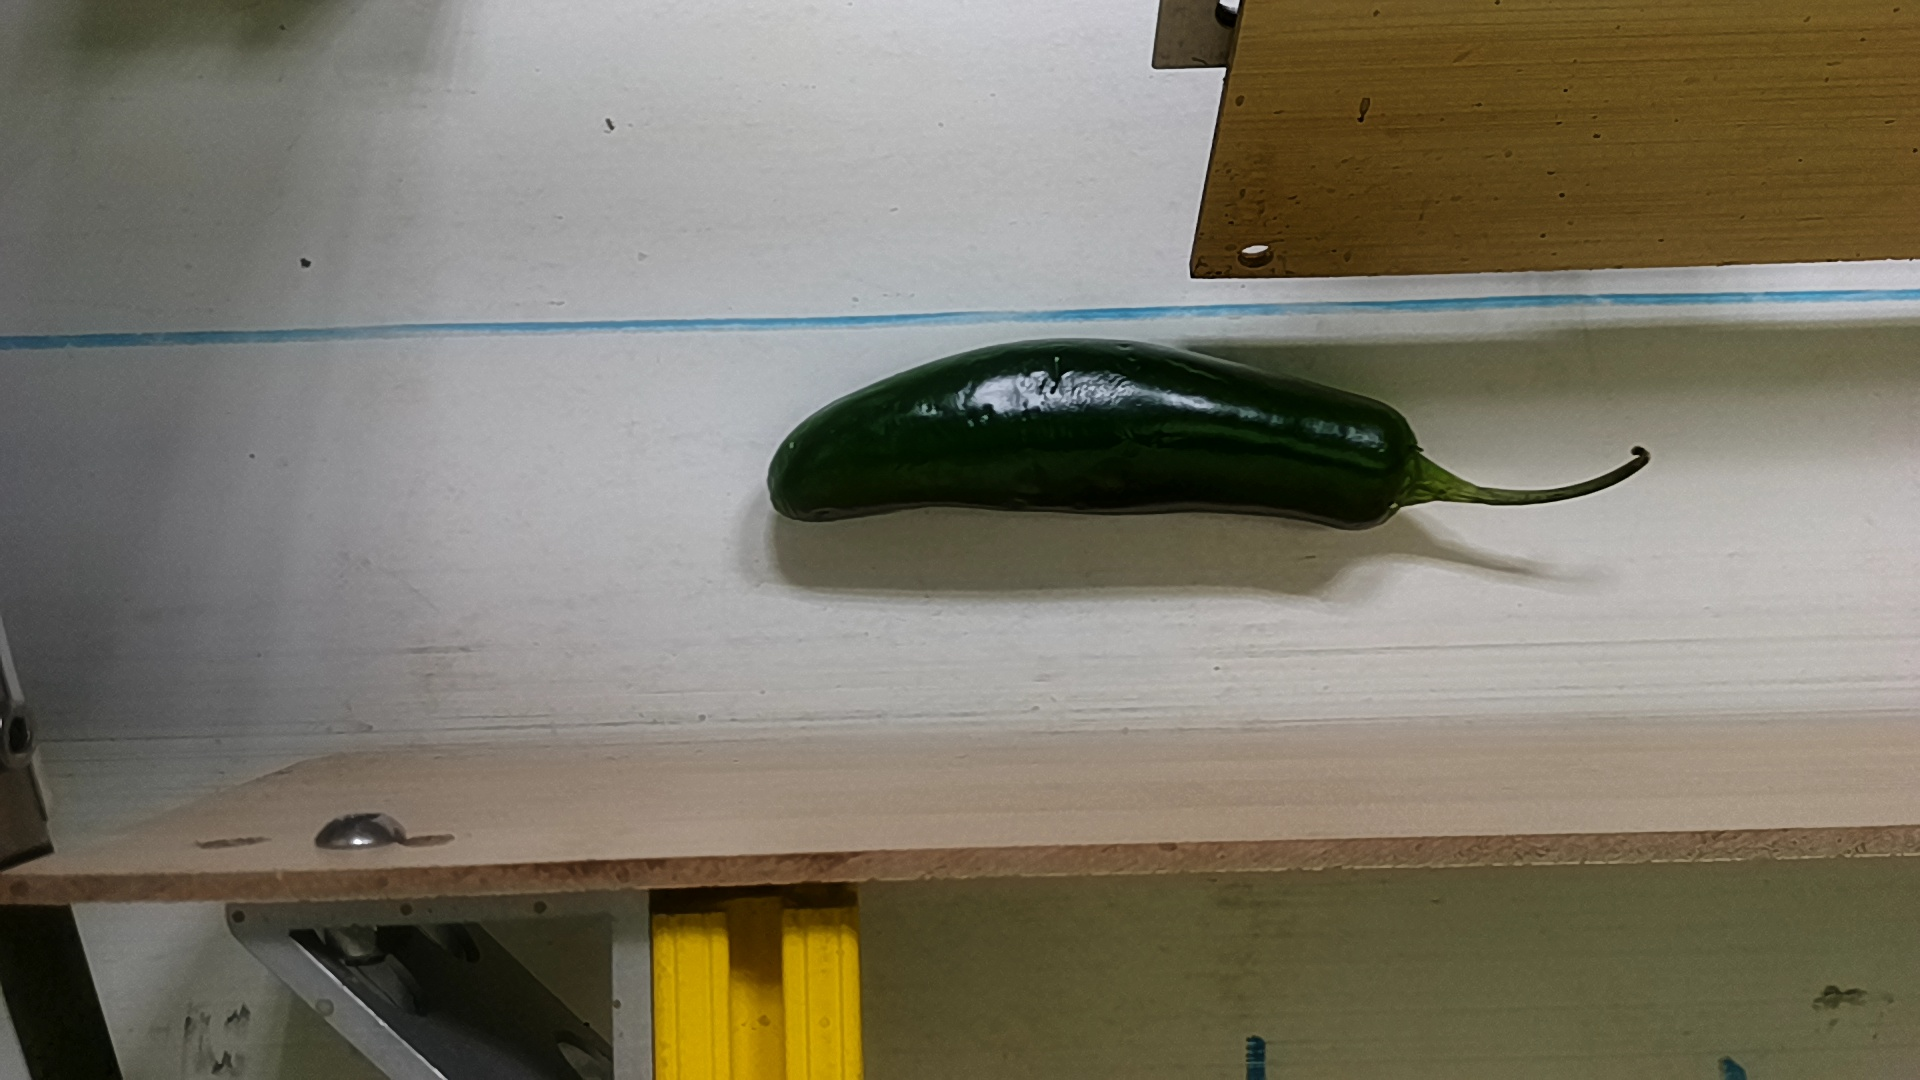Cut Point: (1357, 392, 1443, 541)
